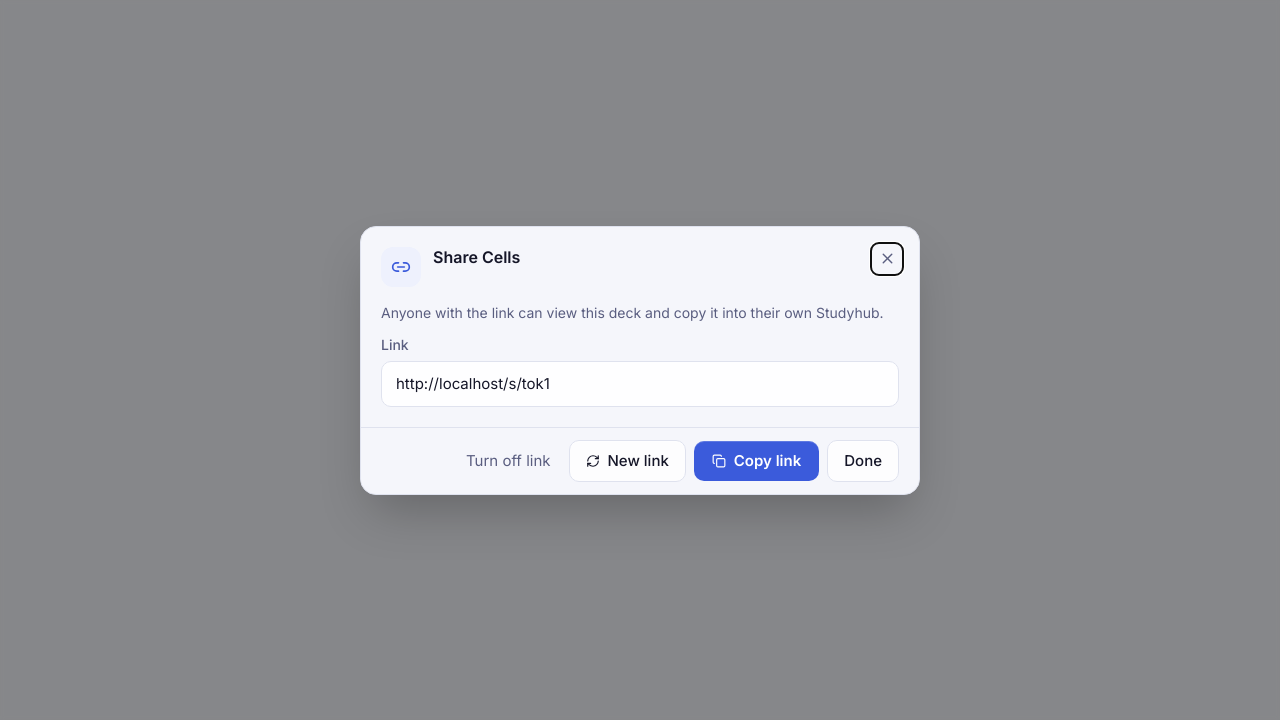
ShareDialog › New link replaces the link and says the old one stopped
The width and height of the screenshot is (1280, 720).
Click the button "New link": x=627, y=460 [568,440,686,482]
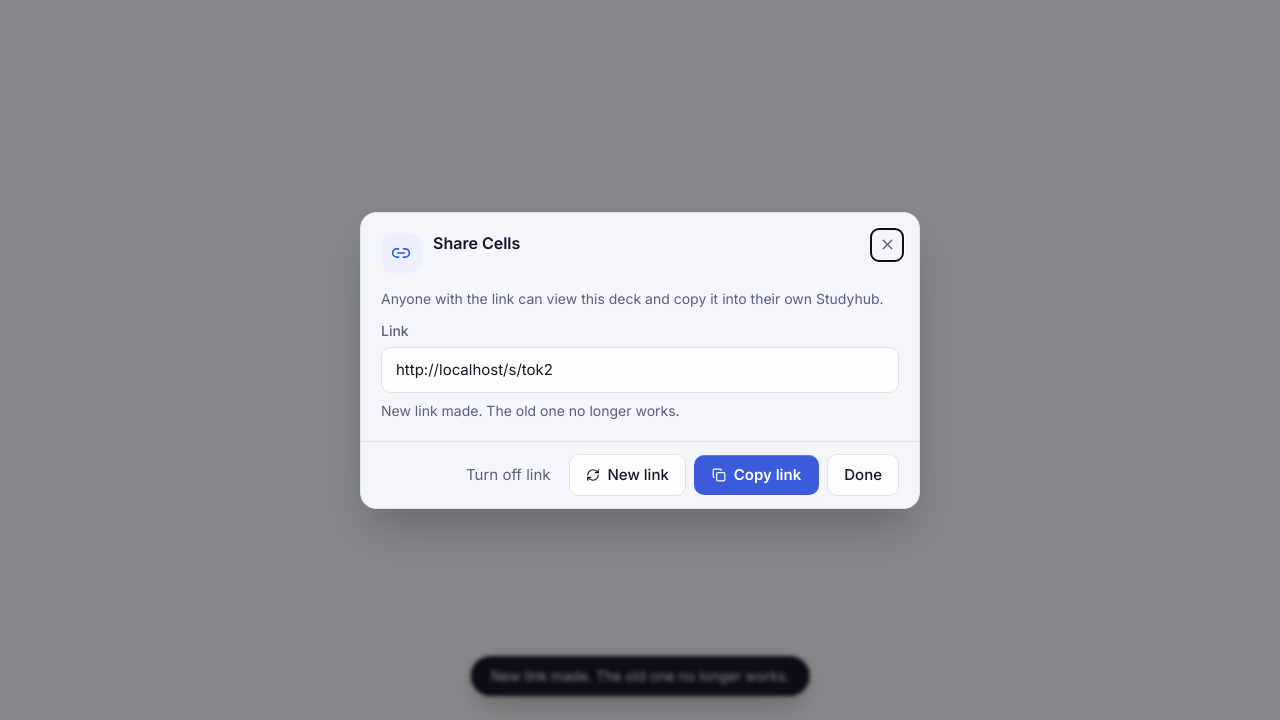
Now the message "New link made. The old one no longer works." below "Anyone with the link can view this" is shown, box [381,402,680,418]
// the next action clears it
Click the button "Copy link": x=757, y=474 [694,454,819,494]
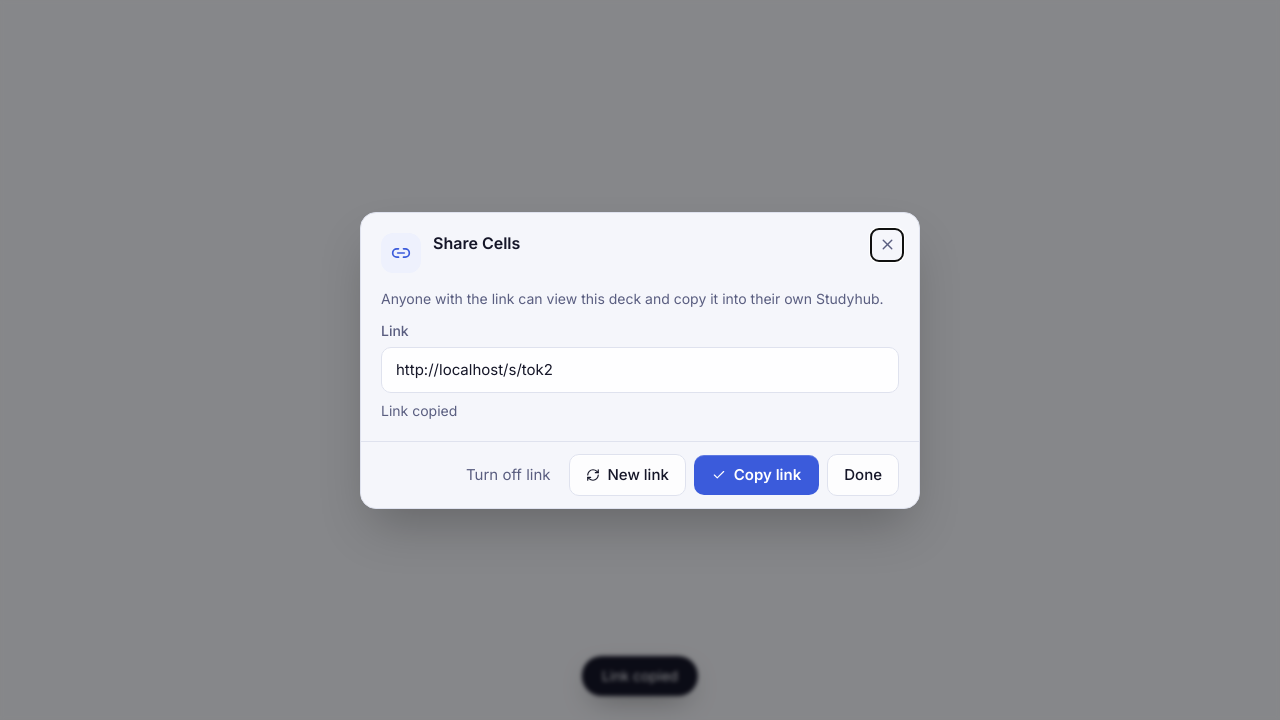
Now the message "Link copied" below "Anyone with the link can view this" is shown, box [381,402,457,418]
